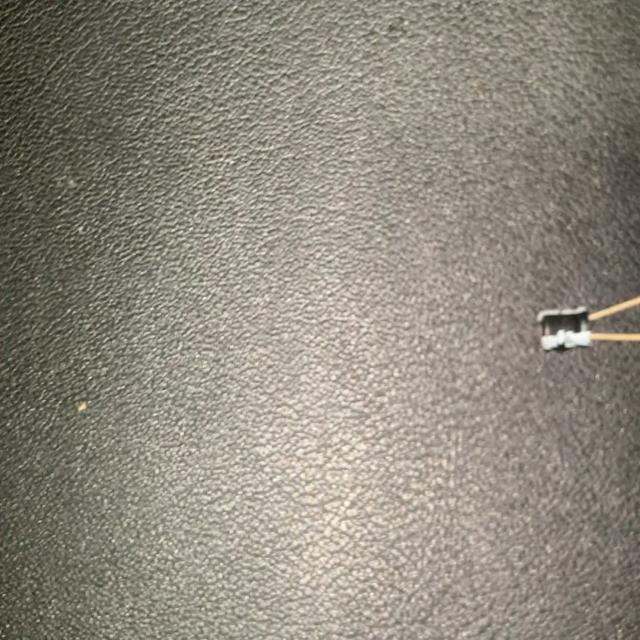capacitor: (535, 292, 640, 355)
